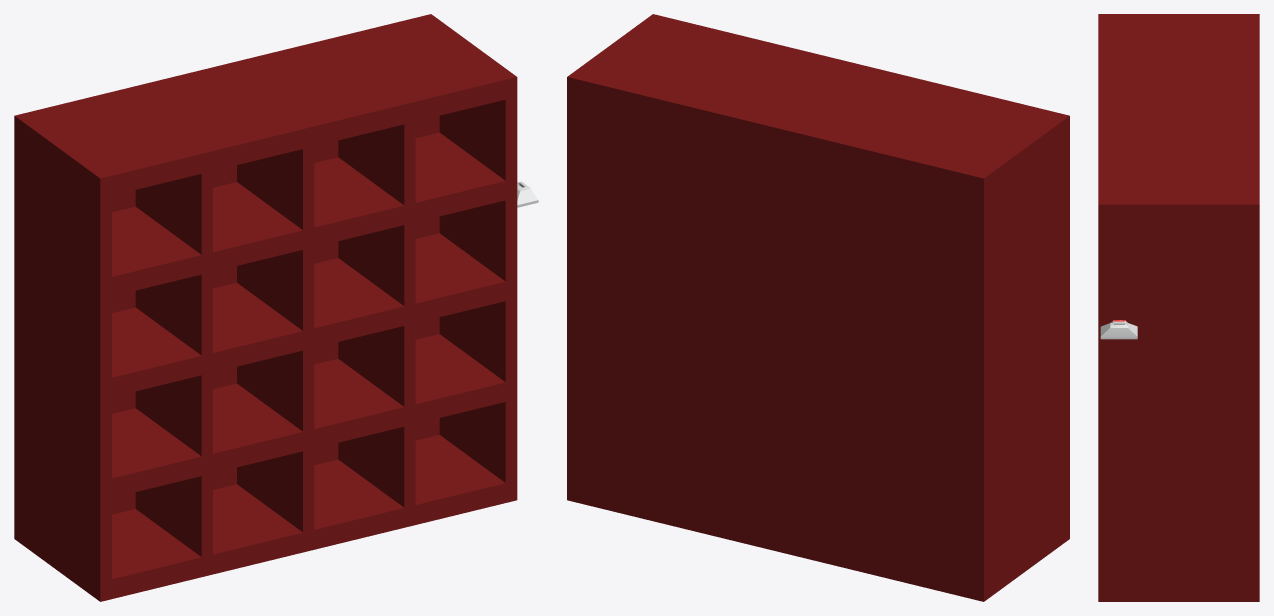
The model's file is Bookshelf.fbx.
3 renders of one model, left to right at view 1: azimuth 30°, elevation 25°; view 2: azimuth 150°, elevation 25°; view 3: azimuth 270°, elevation 25°, orthographic. The views are drawn at different scales.
Visible parts, largest first — view 1: Bookshelf; view 2: Bookshelf; view 3: Bookshelf, CoinAcceptor.
Part boxes in pixels (x1,y1,x2,y2): Bookshelf: (14, 14, 517, 601); Bookshelf: (567, 14, 1069, 601); Bookshelf: (1098, 14, 1259, 601); CoinAcceptor: (1100, 320, 1137, 339).
Size of the model in its own units: 15174 by 13972 by 5140.
